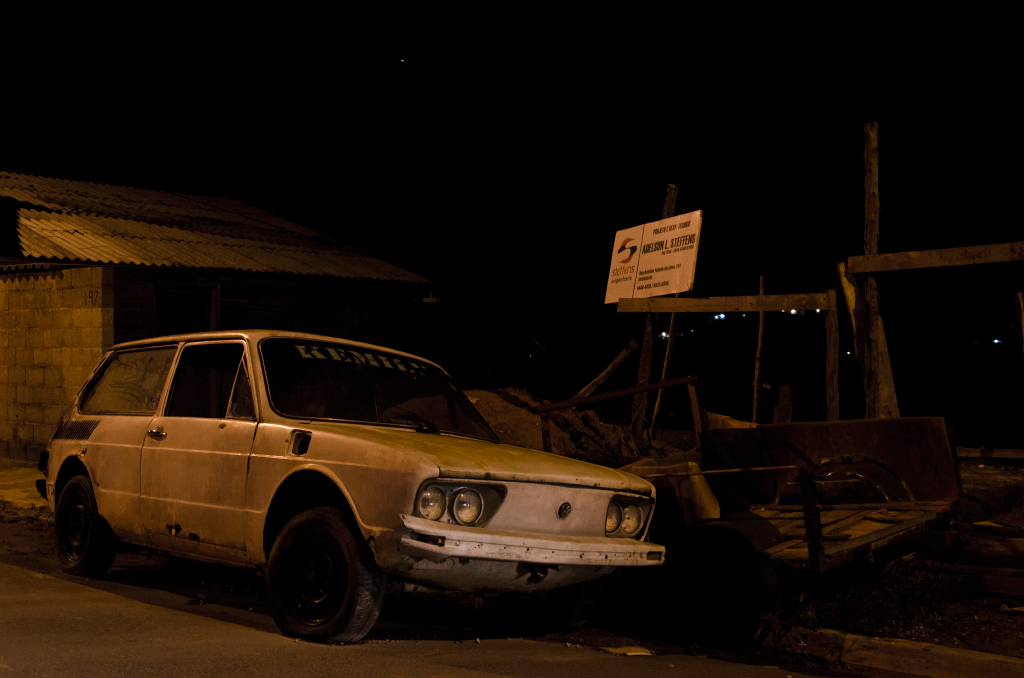car: (29, 318, 680, 656)
